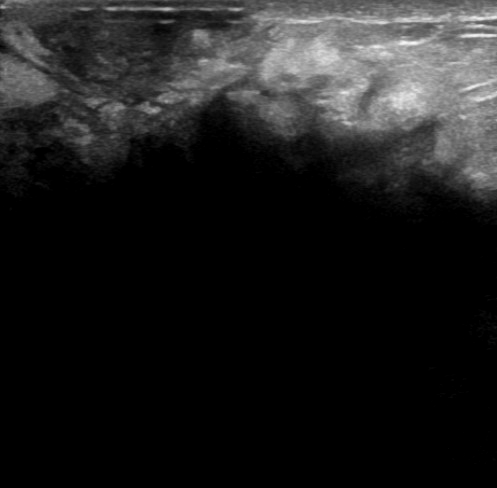Normal: (2, 20, 497, 461)
